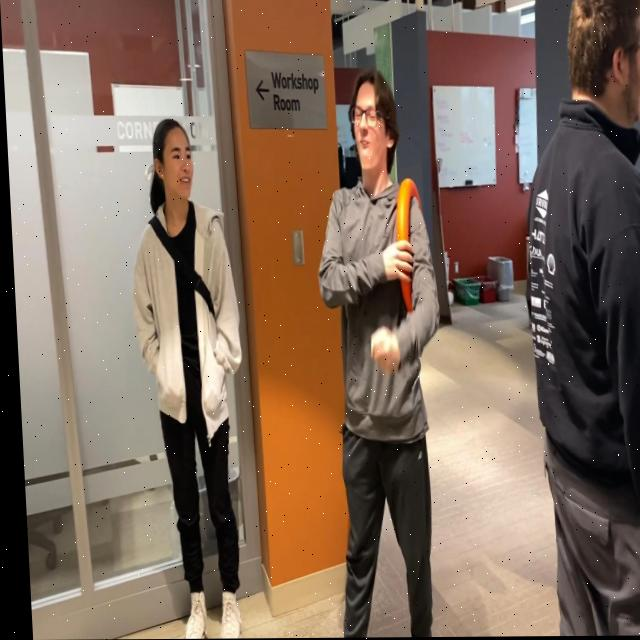note: (389, 174, 426, 316)
